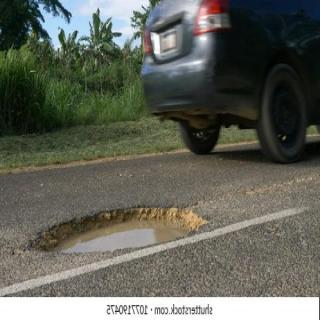pothole: (34, 208, 205, 254)
